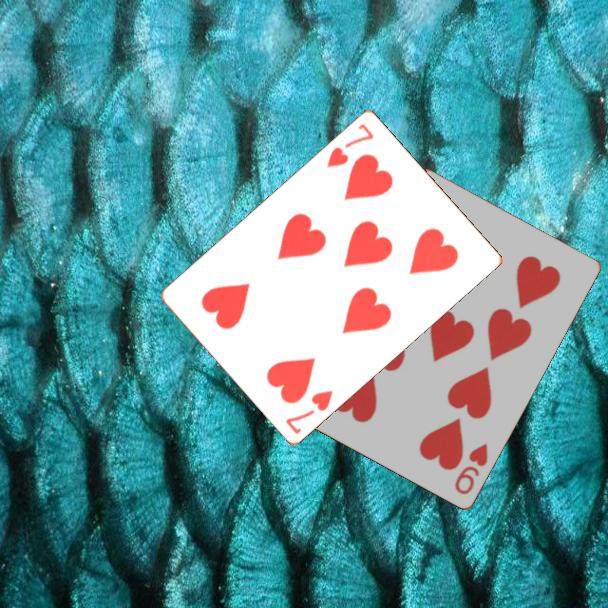h07: (323, 119, 377, 170), (282, 386, 336, 437)
h09: (451, 439, 491, 497)
